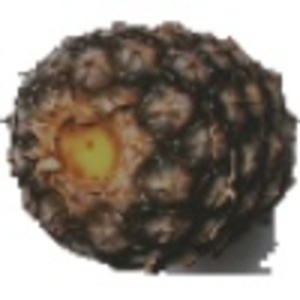abacaxi: (7, 14, 295, 271)
